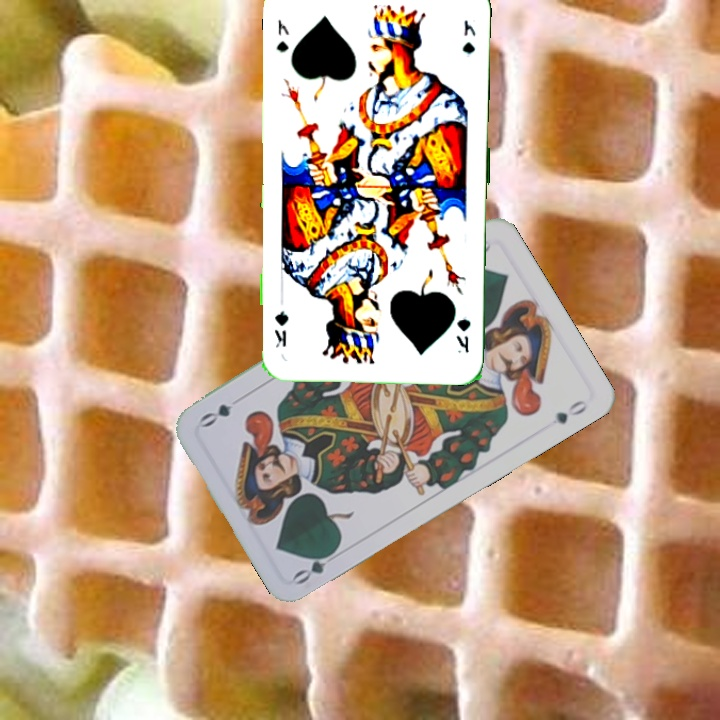GK: (452, 315, 473, 356), (272, 15, 291, 54)
GO: (289, 543, 344, 588)
